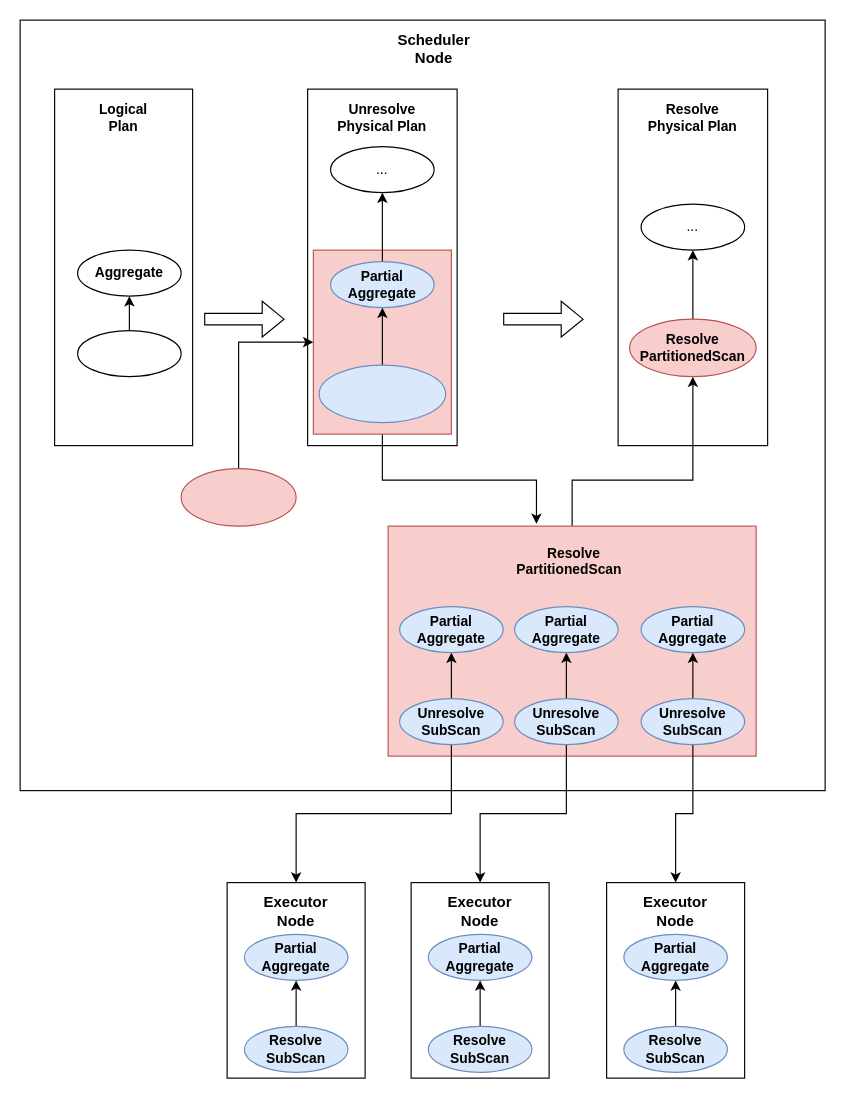
This 845x1098 diagram has some shape labels left out. The centre of each missing label's shape, as x and y in pixels:
"Found able to push down" goes at pixel 238 496.
"TableScan" goes at pixel 128 353.
"Unresolve PartitionedScan" goes at pixel 382 393.
